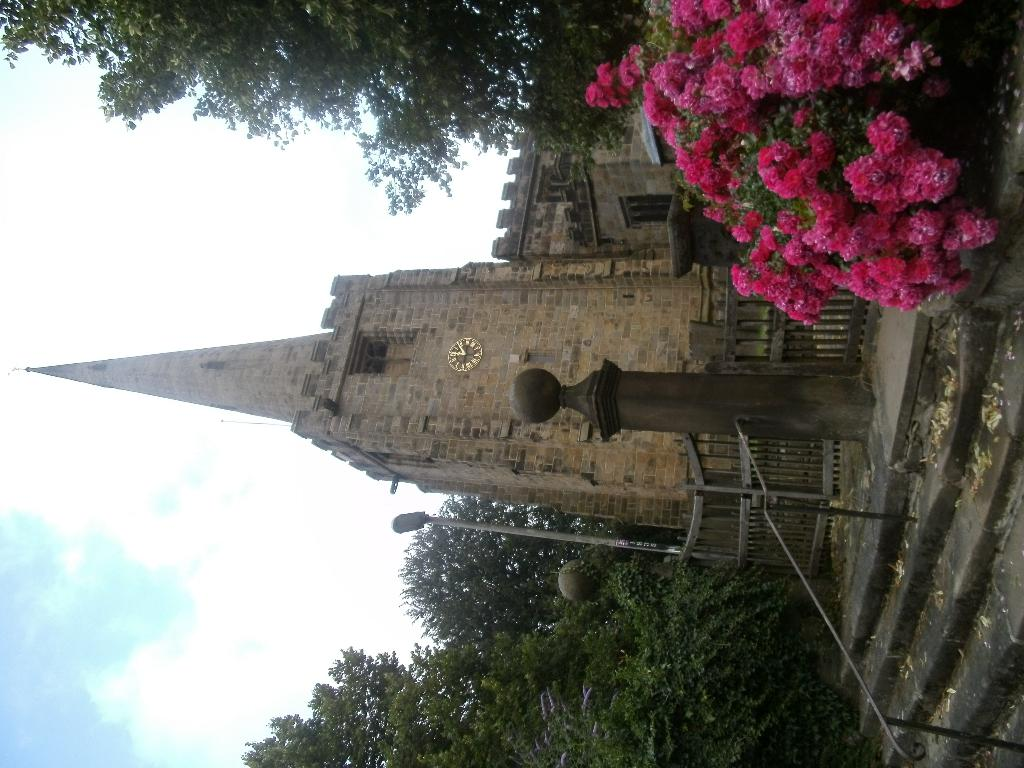Tree: (0, 0, 660, 209), (240, 552, 844, 767), (397, 494, 606, 650)
